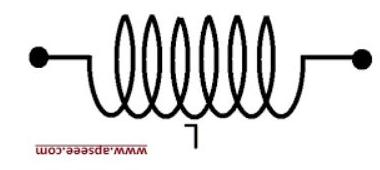inductor: (68, 3, 333, 118)
